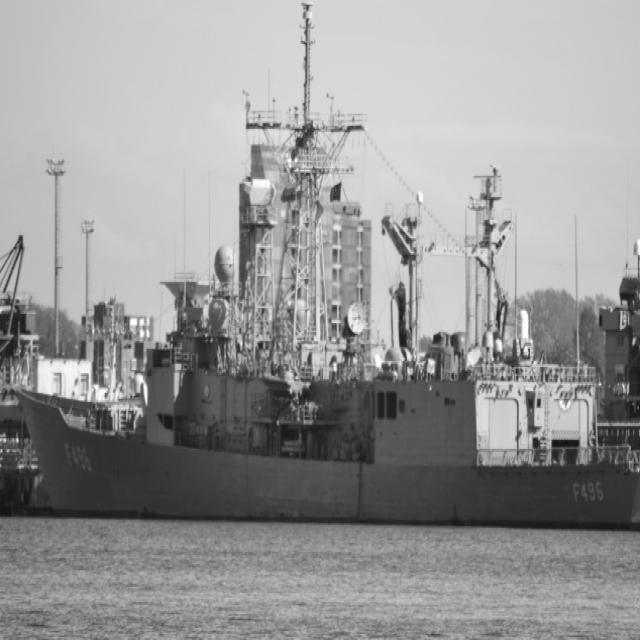Fragata: (4, 1, 640, 536)
